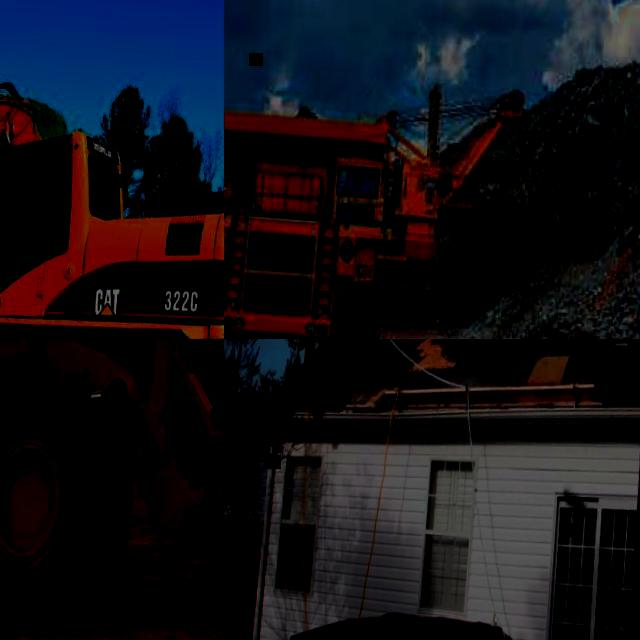machinery: (0, 339, 224, 640), (0, 62, 224, 339), (368, 80, 578, 337), (224, 96, 401, 339)
person: (295, 339, 350, 405)
